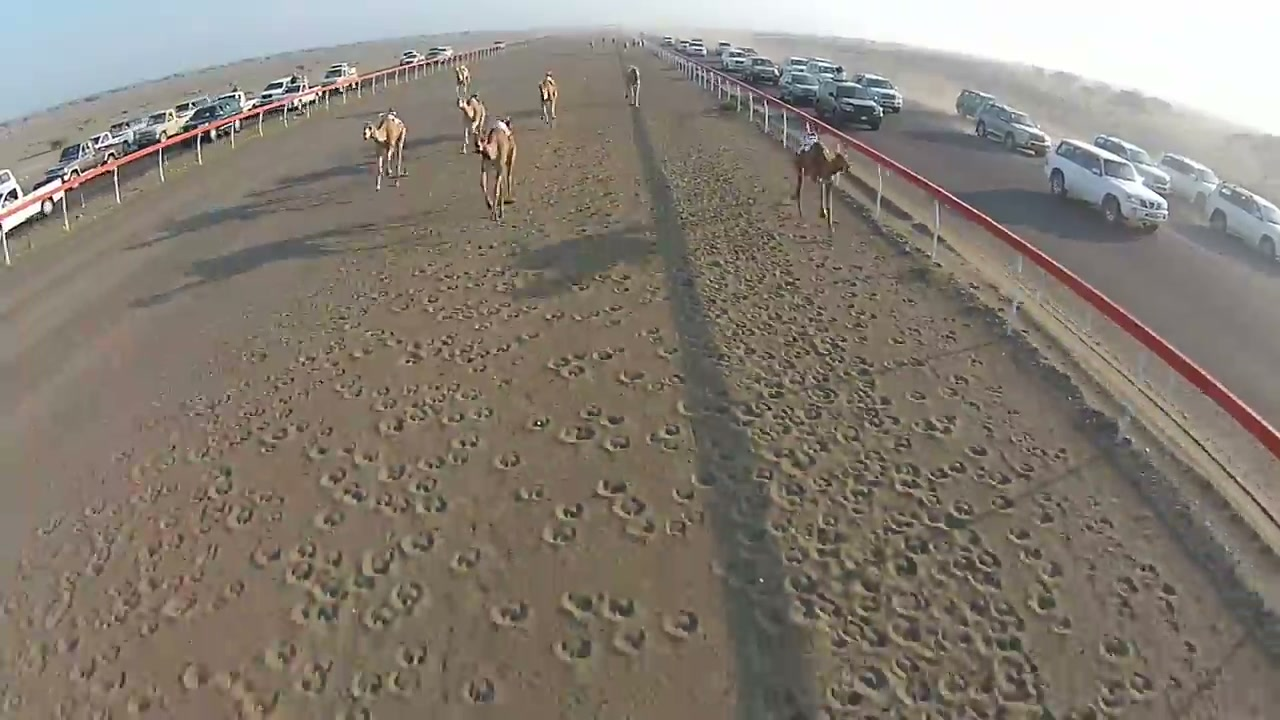animal_footprint: (0, 103, 1279, 716)
